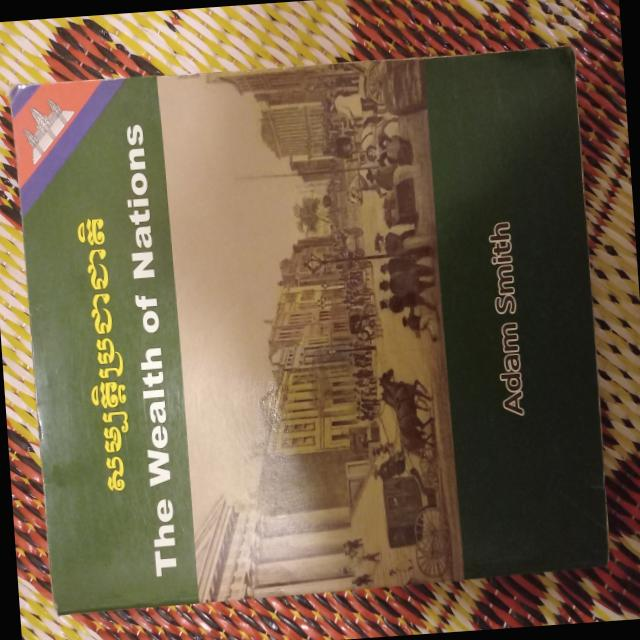Yolov11kh: (72, 214, 137, 501)
